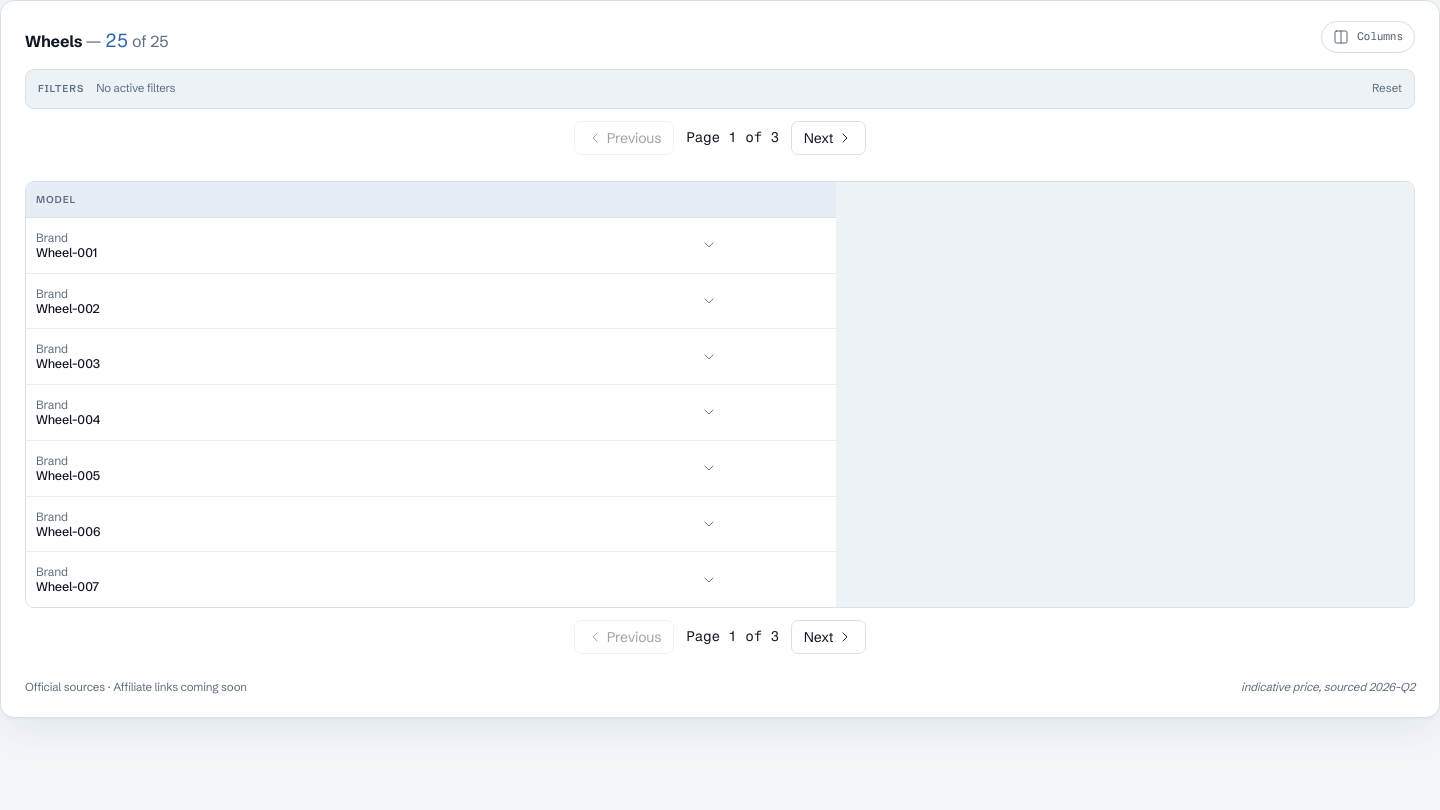
Scenario: ComparisonTable pagination (EVO-061) › interactive navigation › Next is disabled on last page
Click the 1st button "Next": (829, 138) [791,121,866,155]
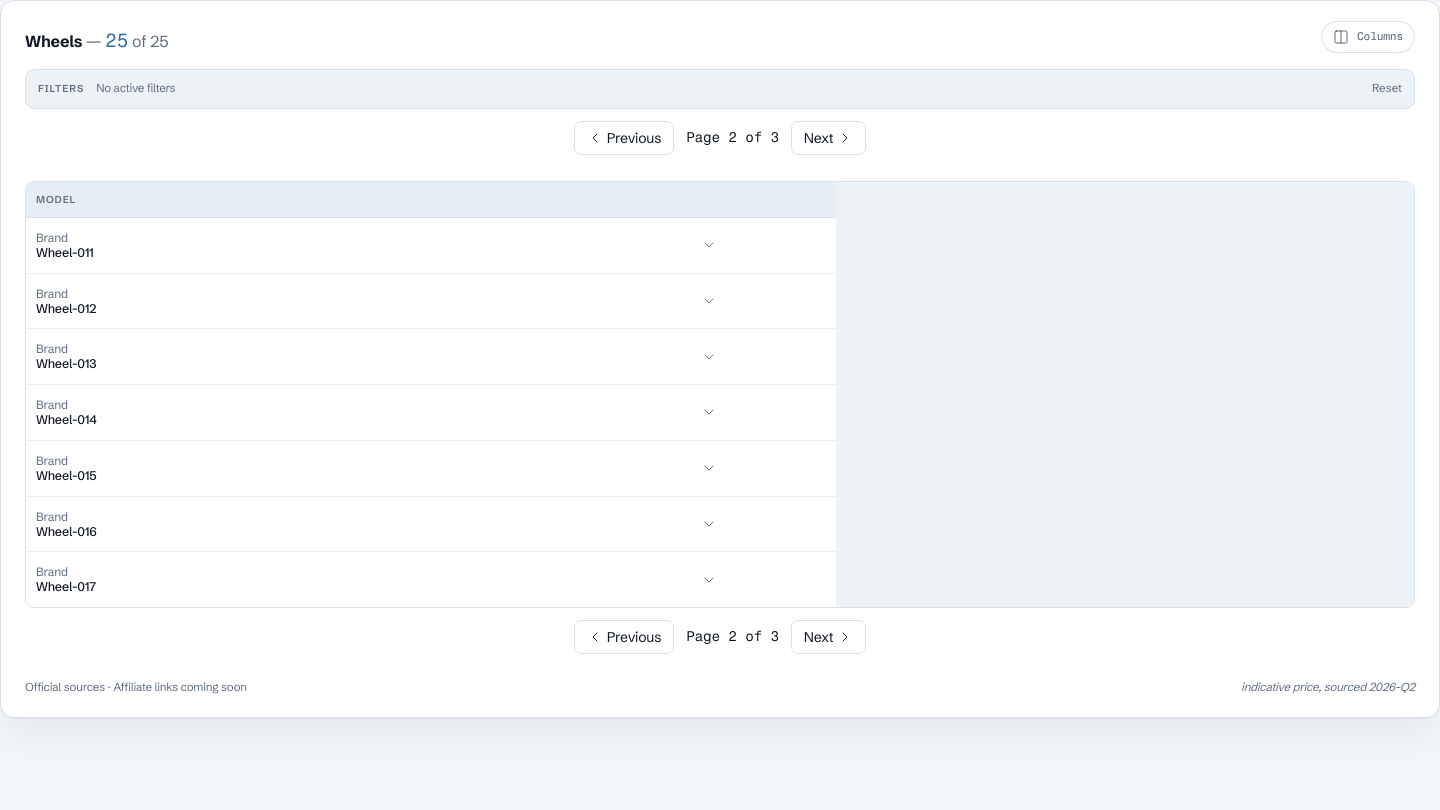
Click the 1st button "Next": (829, 138) [791,121,866,155]
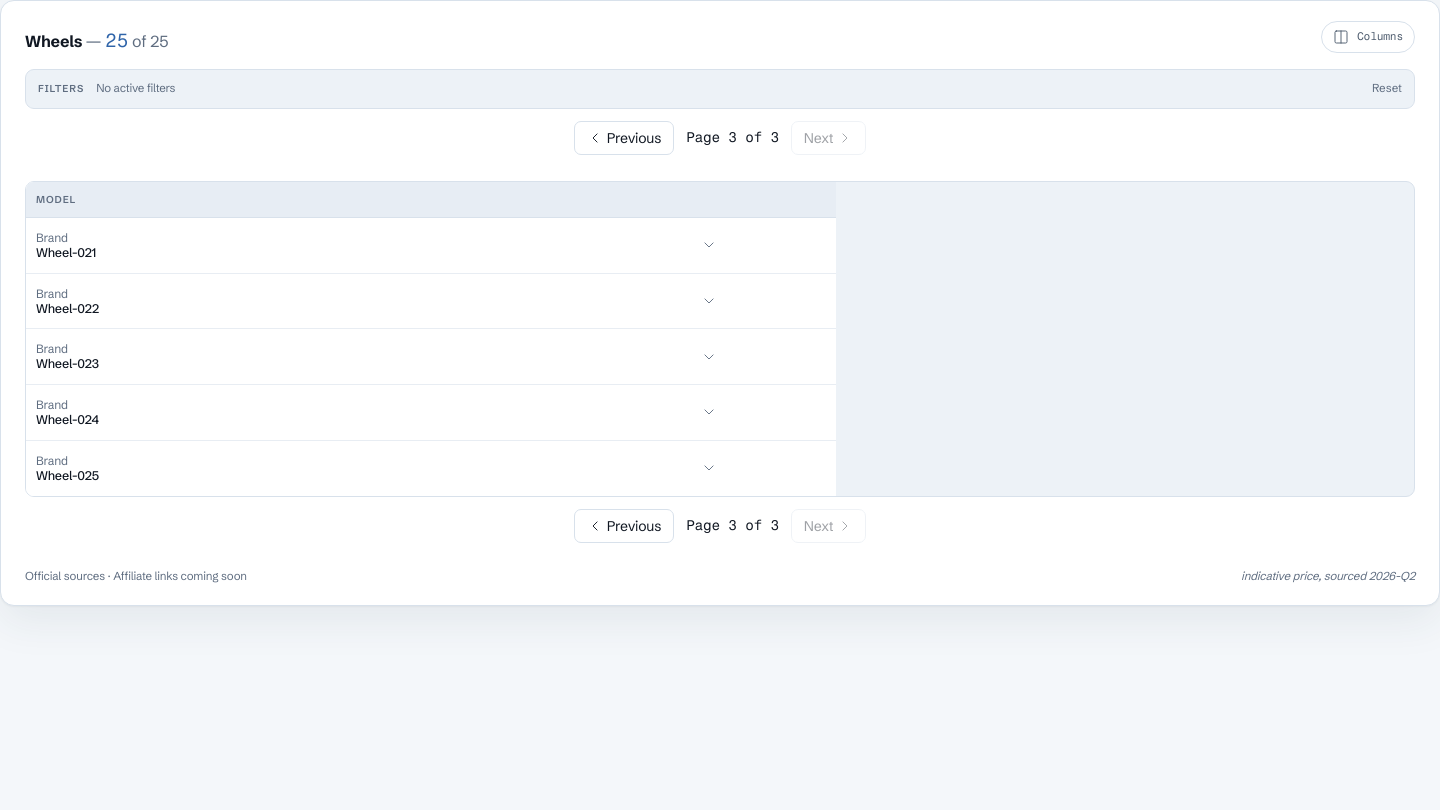
Result: the 1st button "Previous" is enabled at [574,121,674,155]
Result: the navigation bar named "Pagination" shows "Page 3 of 3" at [686,129,779,146]
Result: the 1st button "Next" is disabled at [791,121,866,155]
